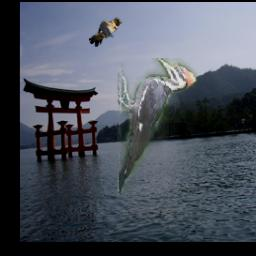Swallow: (89, 17, 123, 47)
Woodpecker: (117, 58, 197, 195)
